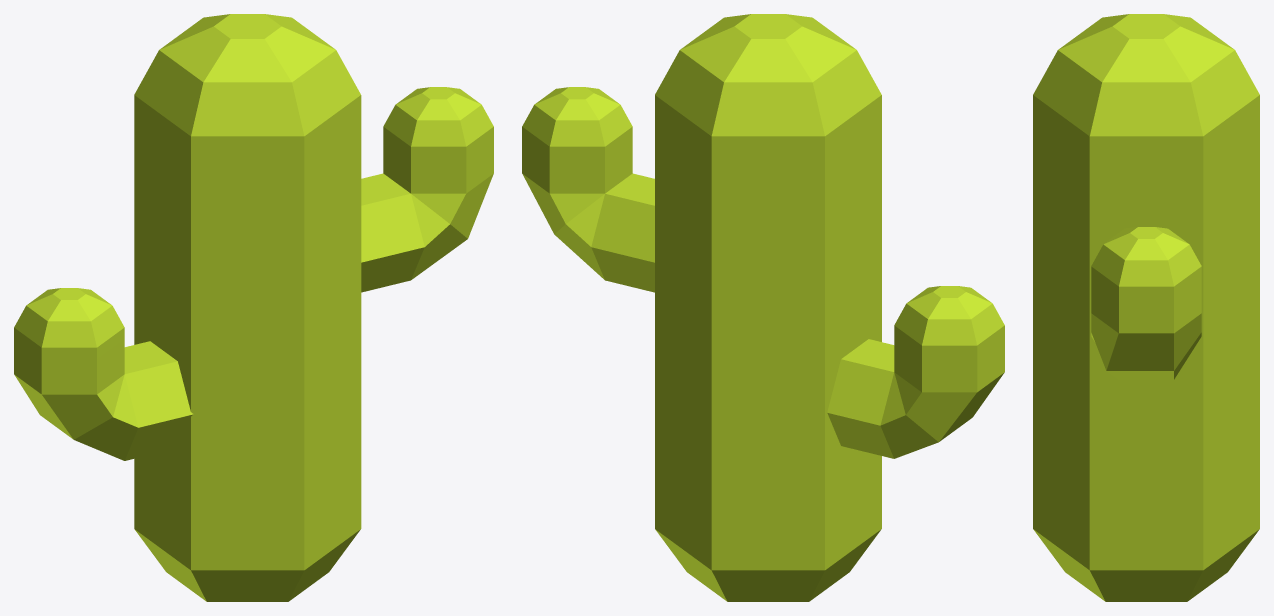
Rendered from Desert_Cactus2.fbx.
3 renders of one model, left to right at view 1: azimuth 30°, elevation 25°; view 2: azimuth 150°, elevation 25°; view 3: azimuth 270°, elevation 25°, orthographic.
Parts seen in each view (by area): view 1: Cylinder.005; view 2: Cylinder.005; view 3: Cylinder.005.
Part boxes in pixels (x1,y1,x2,y2): Cylinder.005: (14,14,493,601); Cylinder.005: (522,14,1004,601); Cylinder.005: (1033,14,1259,601).
Size of the model in its own units: 263 by 302 by 114.
